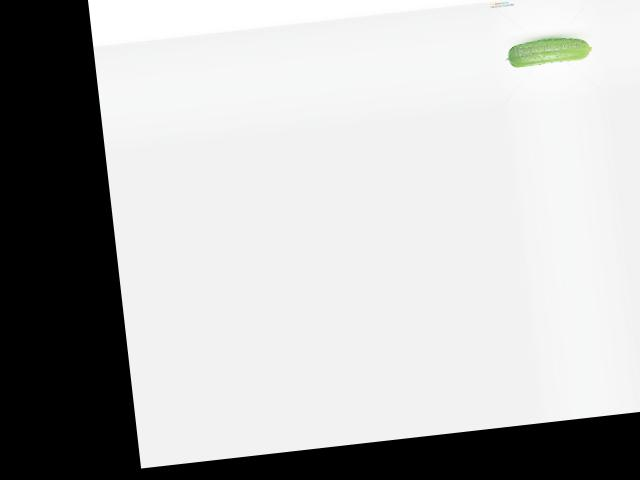cucumber: (503, 34, 594, 68)
